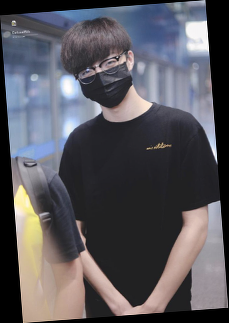with_mask: (77, 51, 134, 109)
